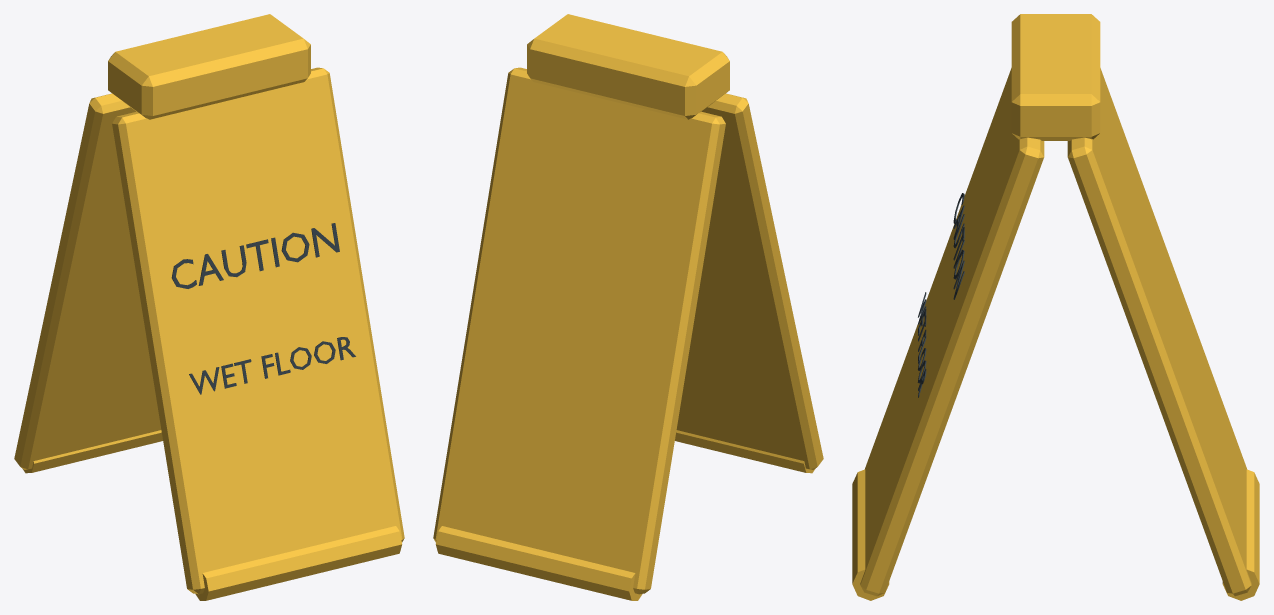
Rendered from Sign_Wet_Floor.glb.
3 renders of one model, left to right at view 1: azimuth 30°, elevation 25°; view 2: azimuth 150°, elevation 25°; view 3: azimuth 270°, elevation 25°, orthographic. The views are drawn at different scales.
Parts seen in each view (by area): view 1: Sign_Wet_Floor; view 2: Sign_Wet_Floor; view 3: Sign_Wet_Floor.
Boxes of the visible parts, x1,y1,x2,y2 form: Sign_Wet_Floor: [14, 14, 404, 600]; Sign_Wet_Floor: [433, 14, 823, 600]; Sign_Wet_Floor: [852, 14, 1259, 600].
Size of the model in its own units: 0.35 by 0.74 by 0.55.
